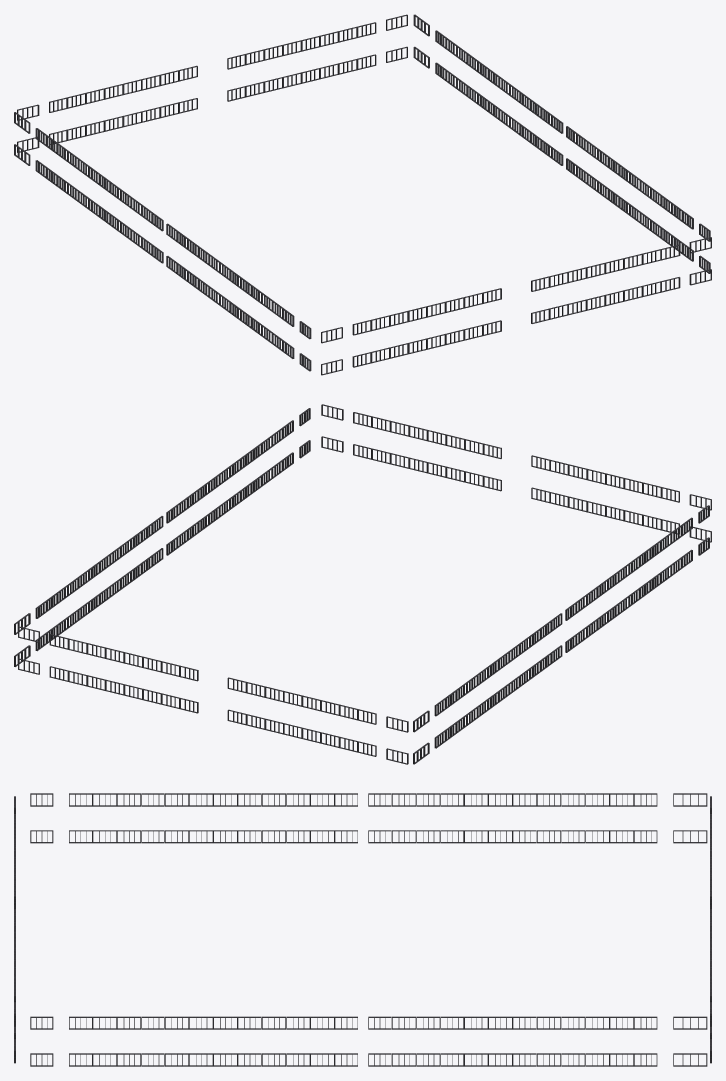
Rendered from wall4.gltf.
The picture shows the model from 3 angles, top to bottom: view 1: azimuth 30°, elevation 25°; view 2: azimuth 150°, elevation 25°; view 3: azimuth 270°, elevation 25°; orthographic projection. The views are drawn at different scales.
Parts seen in each view (by area): view 1: L2_WaiQiang_4; view 2: L2_WaiQiang_4; view 3: L2_WaiQiang_4.
Part boxes in pixels (x1,y1,x2,y2): L2_WaiQiang_4: [14, 14, 711, 375]; L2_WaiQiang_4: [14, 404, 711, 764]; L2_WaiQiang_4: [14, 793, 711, 1066].
Size of the model in its own units: 26.54 by 2.71 by 34.92.
Materials: 1 (1 with a texture image).
